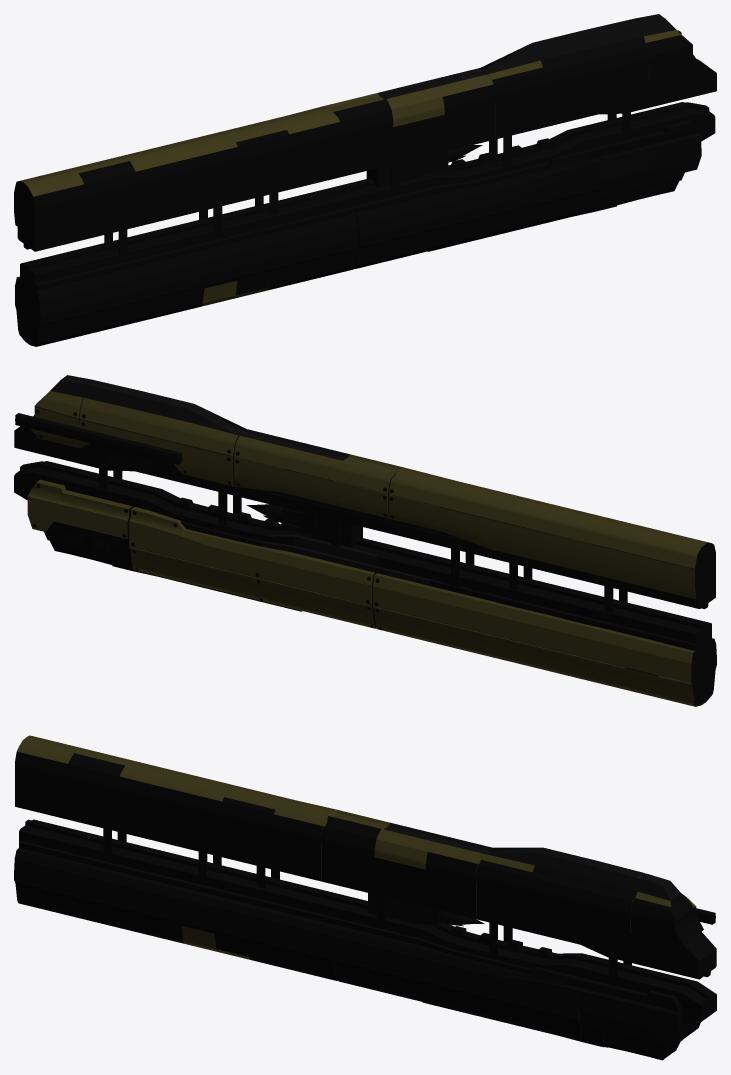
File: RailGun_test.fbx
3 views of the same model, one above another, from view 1: azimuth 30°, elevation 25°; view 2: azimuth 150°, elevation 25°; view 3: azimuth 330°, elevation 25° (orthographic).
Parts seen in each view (by area): view 1: pCube213; view 2: pCube213; view 3: pCube213.
Boxes of the visible parts, x1=… form: pCube213: x1=14, y1=14, x2=716, y2=346; pCube213: x1=14, y1=375, x2=716, y2=706; pCube213: x1=14, y1=735, x2=716, y2=1060.
Bounding box in the file's own units: 35.98 × 8.89 × 2.83.
